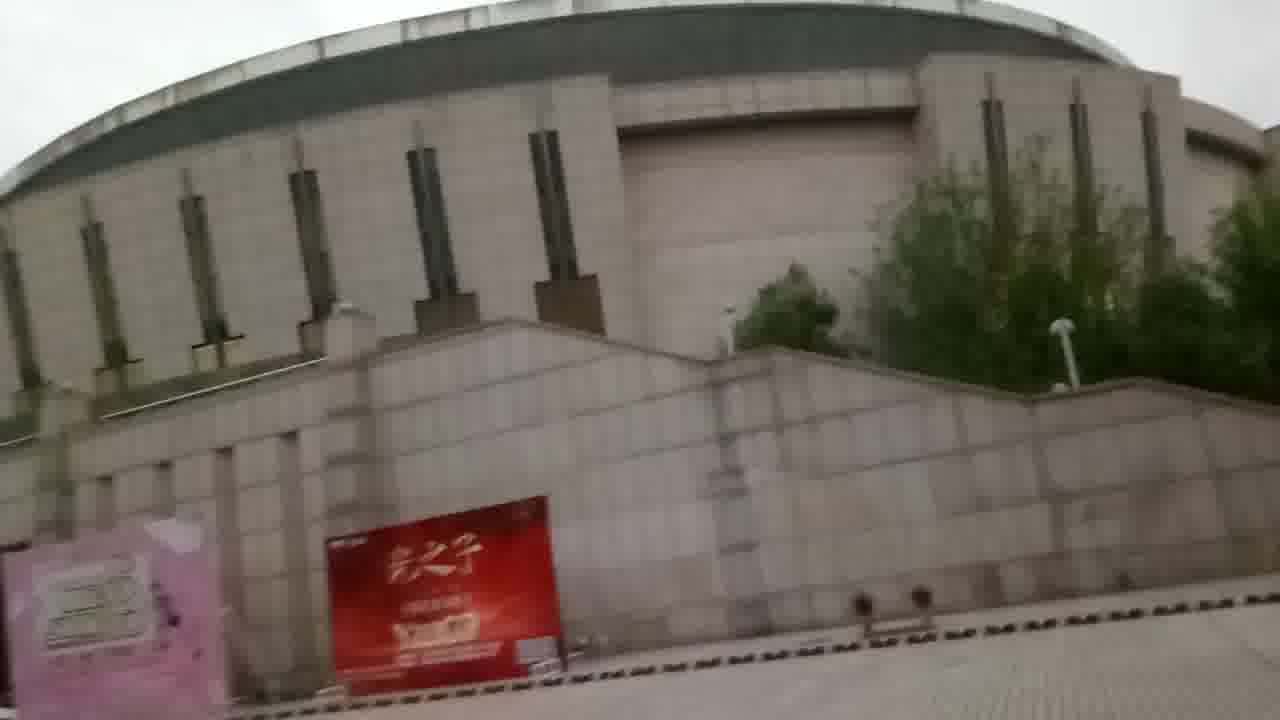zhongtiww: (14, 4, 1280, 649)
